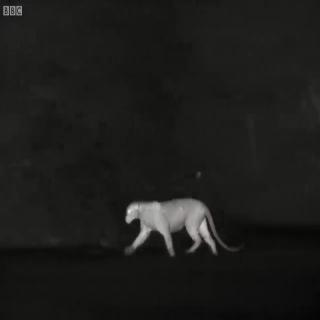Leopard: (128, 165, 228, 271)
